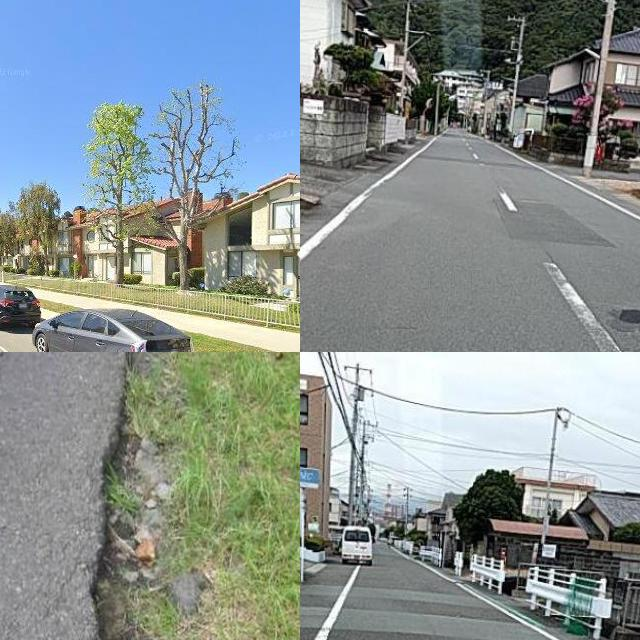Pinggir: (46, 352, 198, 640)
Sambungan: (496, 202, 612, 243)
